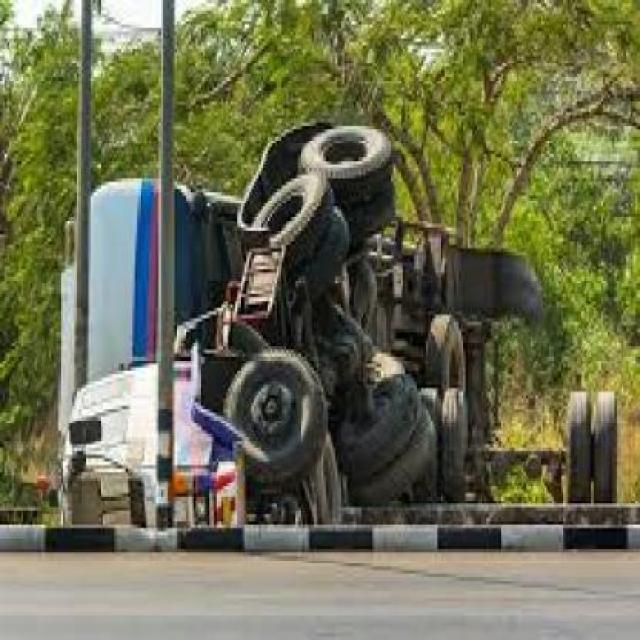accident: (36, 128, 622, 552)
